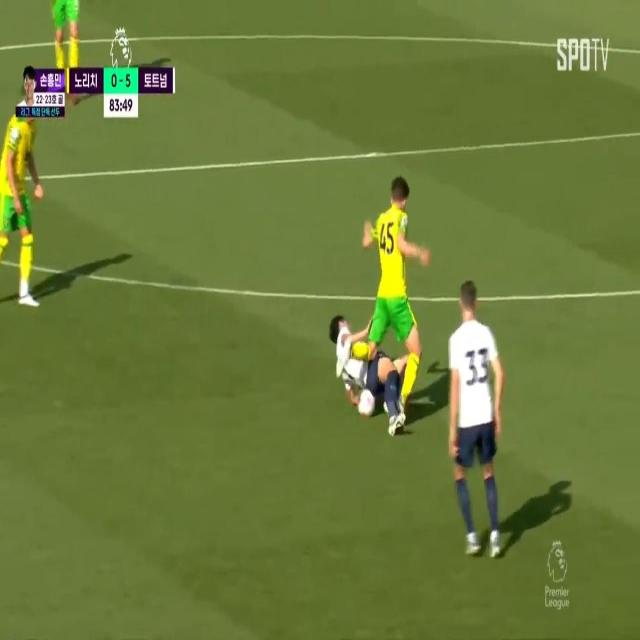ball: (351, 383, 386, 417)
player: (447, 278, 506, 566), (376, 175, 430, 397), (0, 70, 43, 324), (324, 321, 396, 424), (47, 0, 85, 102)
